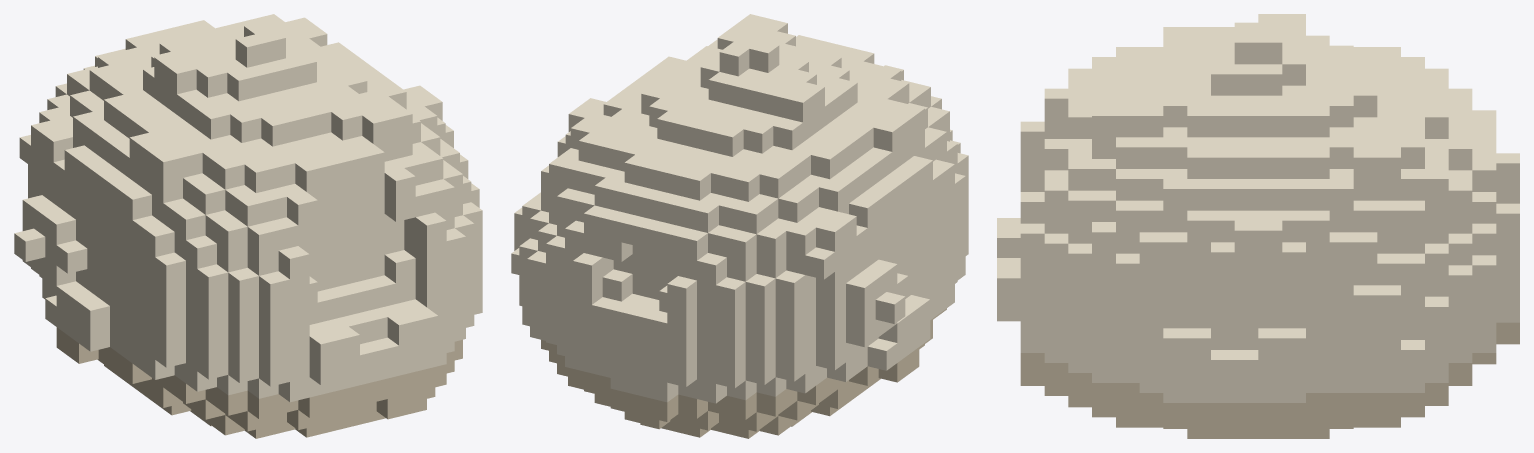
Rendered from sheep__body.glb.
3 renders of one model, left to right at view 1: azimuth 30°, elevation 25°; view 2: azimuth 150°, elevation 25°; view 3: azimuth 270°, elevation 25°, orthographic. The views are drawn at different scales.
Visible parts, largest first — view 1: sheep__body; view 2: sheep__body; view 3: sheep__body.
Boxes of the visible parts, bbox=[...] form: sheep__body: bbox=[14, 14, 482, 438]; sheep__body: bbox=[511, 14, 968, 438]; sheep__body: bbox=[997, 14, 1519, 438].
Bounding box in the file's own units: 1.9 × 1.7 × 2.2.
1 material, 1 textured.
